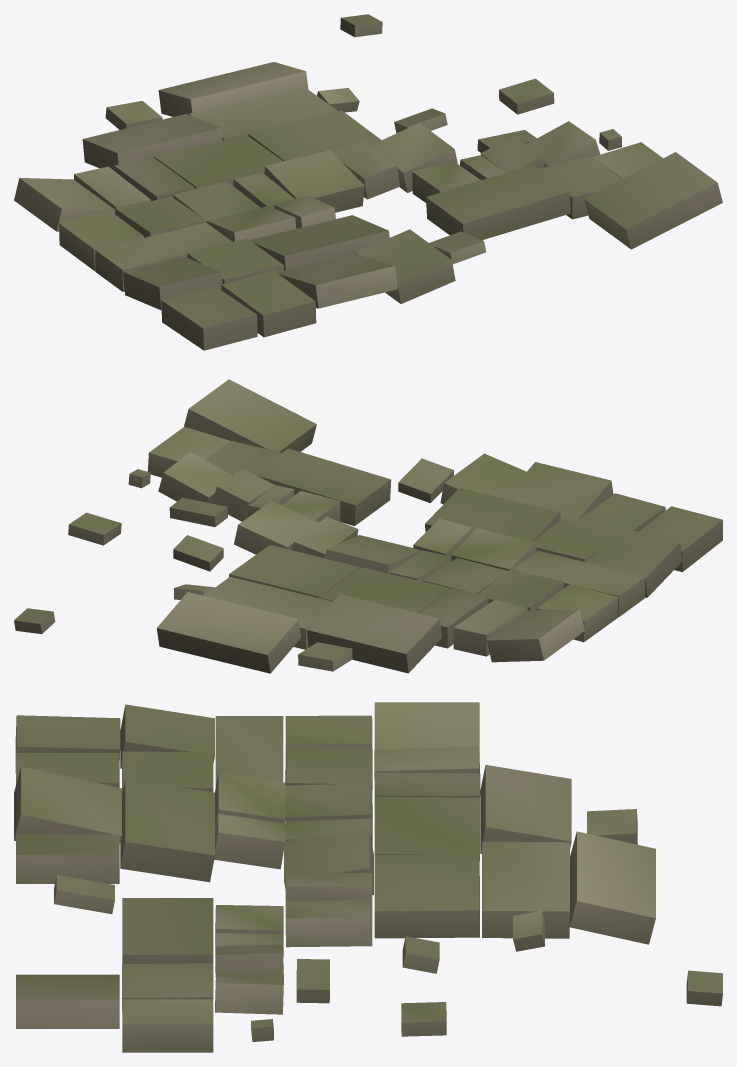
File: agora_paving_broken_mid.glb
The picture shows the model from 3 angles, top to bottom: view 1: azimuth 30°, elevation 25°; view 2: azimuth 150°, elevation 25°; view 3: azimuth 270°, elevation 25°; orthographic projection. The views are drawn at different scales.
Parts seen in each view (by area): view 1: agora_paving_broken_mid; view 2: agora_paving_broken_mid; view 3: agora_paving_broken_mid.
Boxes of the visible parts, bbox=[...] form: agora_paving_broken_mid: bbox=[14, 14, 722, 350]; agora_paving_broken_mid: bbox=[14, 379, 722, 673]; agora_paving_broken_mid: bbox=[14, 702, 722, 1052].
Bounding box in the file's own units: 18.54 × 1.56 × 17.71.
